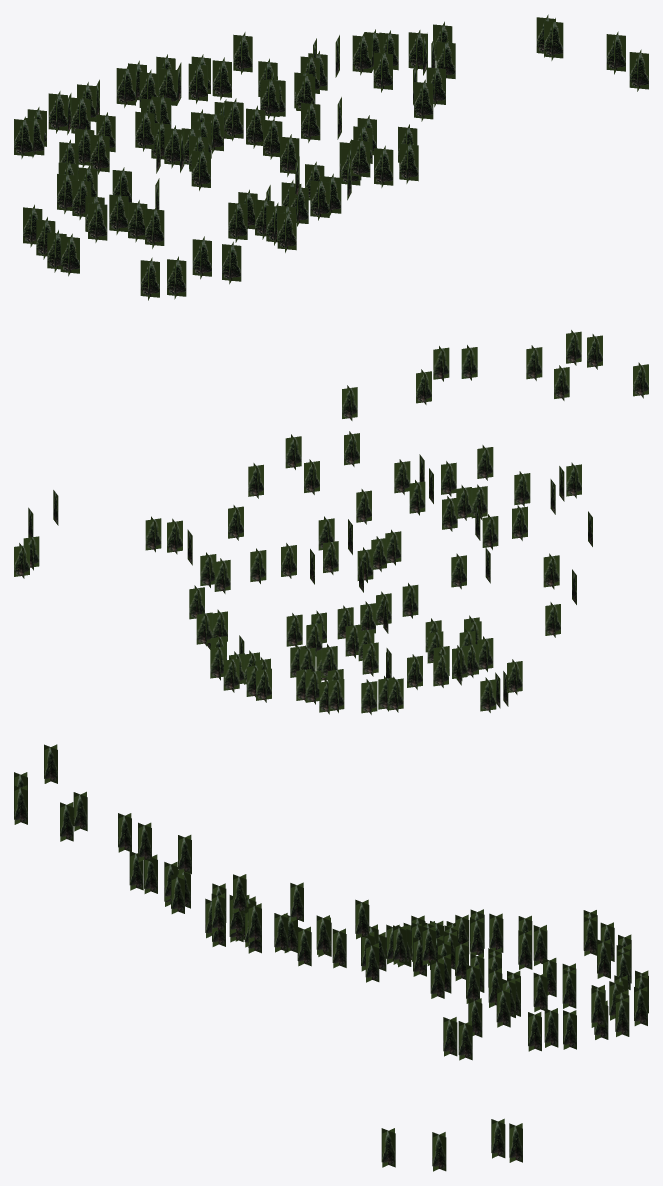
Rendered from RM_PLAYSURFACE_FINAL_INST_PINE_LOD1_168.fbx.
3 renders of one model, top to bottom at view 1: azimuth 30°, elevation 25°; view 2: azimuth 150°, elevation 25°; view 3: azimuth 270°, elevation 25°, orthographic. The views are drawn at different scales.
Parts seen in each view (by area): view 1: RM_PLAYSURFACE_FINAL_INST_PINE_LOD1_168; view 2: RM_PLAYSURFACE_FINAL_INST_PINE_LOD1_168; view 3: RM_PLAYSURFACE_FINAL_INST_PINE_LOD1_168.
Part boxes in pixels (box(x1,y1,x2,y2)): RM_PLAYSURFACE_FINAL_INST_PINE_LOD1_168: box(14, 14, 648, 300); RM_PLAYSURFACE_FINAL_INST_PINE_LOD1_168: box(14, 330, 648, 714); RM_PLAYSURFACE_FINAL_INST_PINE_LOD1_168: box(14, 744, 648, 1171).
Size of the model in its own units: 907999 by 385248 by 907802.
Materials: 1 (1 with a texture image).
